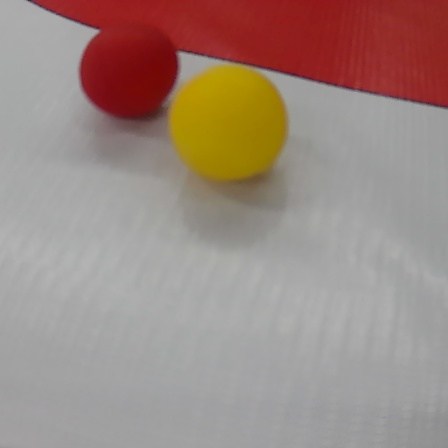red: (20, 0, 445, 113), (78, 23, 180, 119)
yellow: (163, 62, 292, 184)
